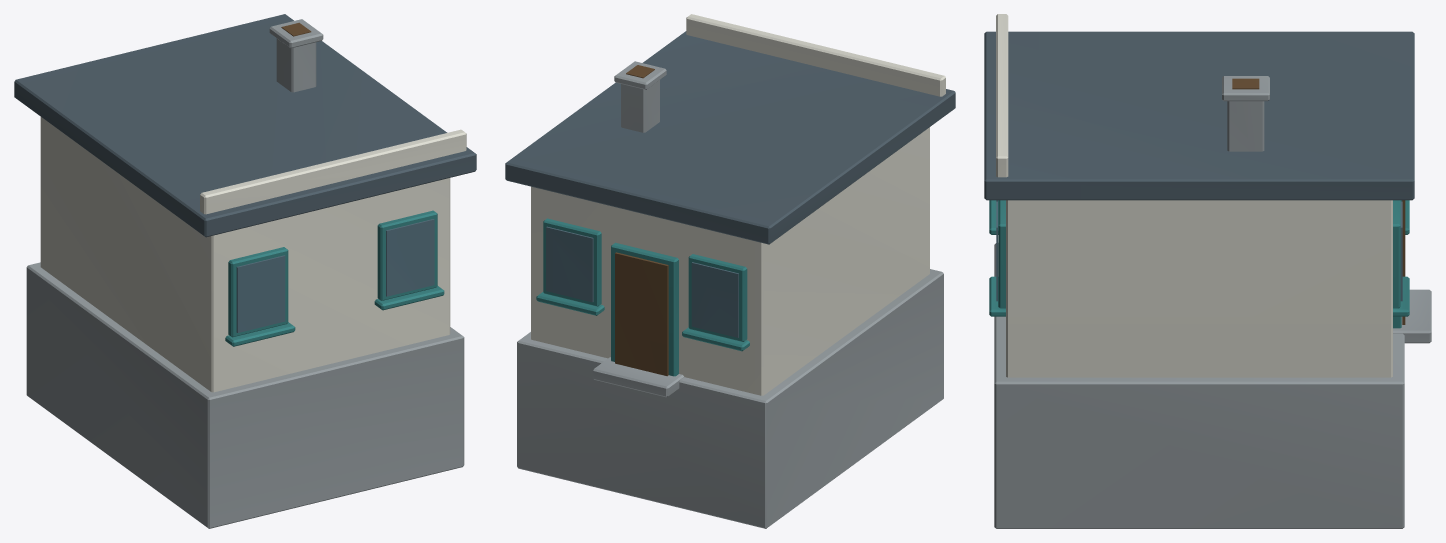
Rendered from house-new.glb.
The picture shows the model from 3 angles, left to right: view 1: azimuth 30°, elevation 25°; view 2: azimuth 150°, elevation 25°; view 3: azimuth 270°, elevation 25°; orthographic projection. The views are drawn at different scales.
Visible parts, largest first — view 1: stone foundation.001, house walls.001, flat overhanging roof.001, window glass.004, door frame.001; view 2: stone foundation.001, flat overhanging roof.001, house walls.001, door frame.001, chimney opening.001, window glass.004; view 3: house walls.001, flat overhanging roof.001, stone foundation.001, door frame.001, chimney opening.001.
Boxes of the visible parts, x1=… form: stone foundation.001: x1=26, y1=19, x2=464, y2=528; house walls.001: x1=40, y1=117, x2=466, y2=392; flat overhanging roof.001: x1=14, y1=14, x2=476, y2=237; window glass.004: x1=236, y1=219, x2=434, y2=332; door frame.001: x1=225, y1=210, x2=444, y2=346; stone foundation.001: x1=517, y1=61, x2=943, y2=528; flat overhanging roof.001: x1=505, y1=31, x2=955, y2=244; house walls.001: x1=531, y1=14, x2=945, y2=395; door frame.001: x1=536, y1=218, x2=749, y2=376; chimney opening.001: x1=615, y1=65, x2=668, y2=376; window glass.004: x1=546, y1=226, x2=738, y2=337; house walls.001: x1=996, y1=14, x2=1392, y2=377; flat overhanging roof.001: x1=984, y1=31, x2=1414, y2=200; stone foundation.001: x1=994, y1=76, x2=1431, y2=528; door frame.001: x1=989, y1=200, x2=1409, y2=328; chimney opening.001: x1=1232, y1=78, x2=1405, y2=324.
Size of the model in its own units: 4.56 by 5.92 by 5.78.
